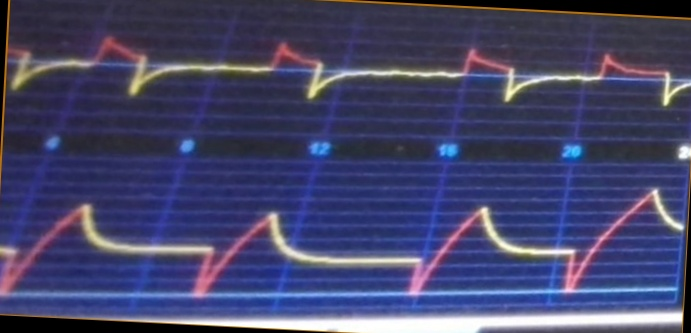Flow: (10, 30, 691, 123)
Leakage Volume: (1, 183, 683, 305)
